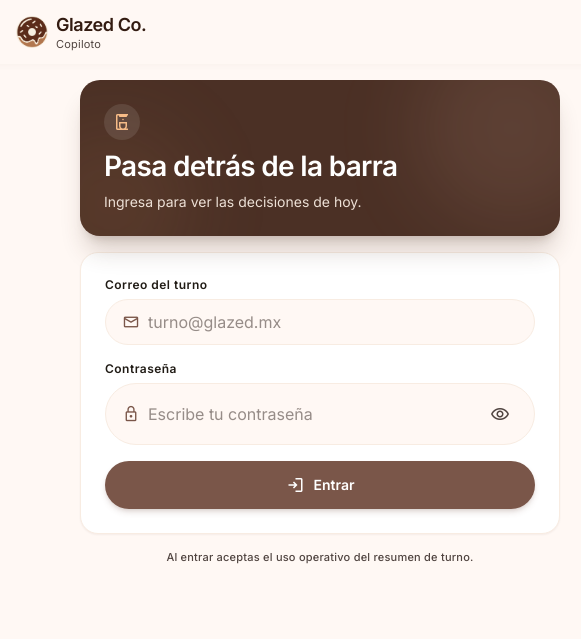
Test: login form › 401 shows the generic error
Type "m@x.mx" into the field labelled "Correo del turno".
click(333, 322); type("m@x.mx")  # box [148,312,518,332]
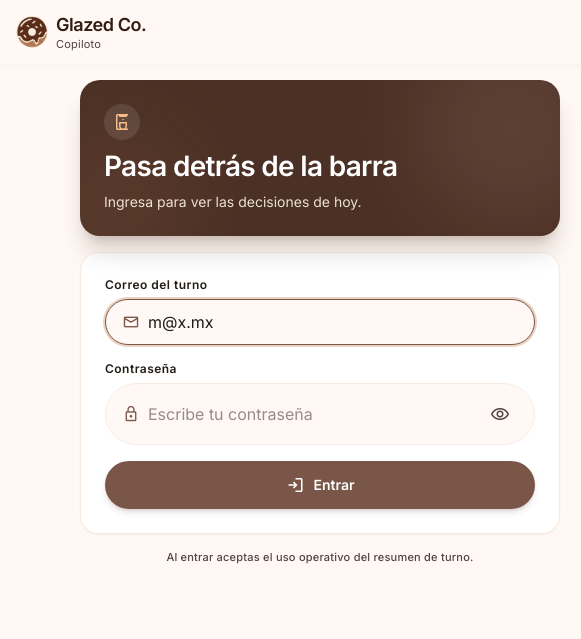
Type "secreto" into the password field labelled "Contraseña".
click(311, 414); type("secreto")  # box [148,404,474,424]
Then press Enter
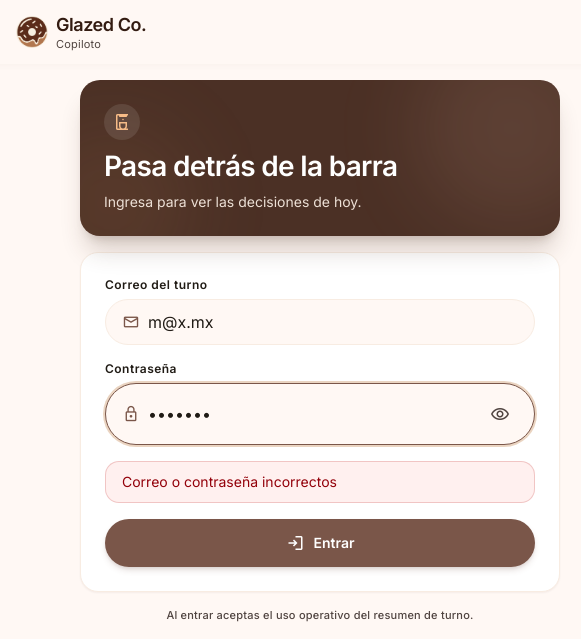
expect the message reads "Correo o contraseña incorrectos": met, box [122,473,337,490]
